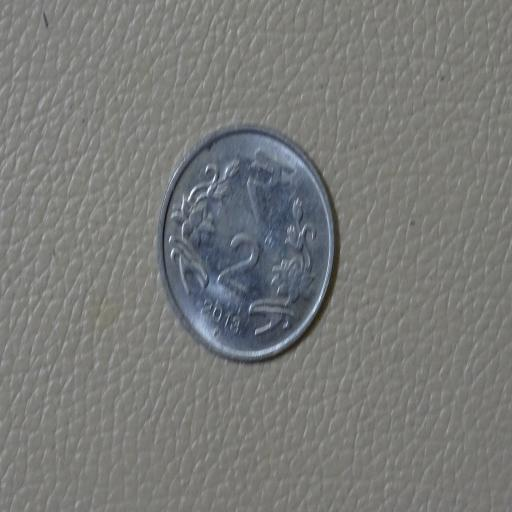rupee2: (153, 119, 340, 363)
